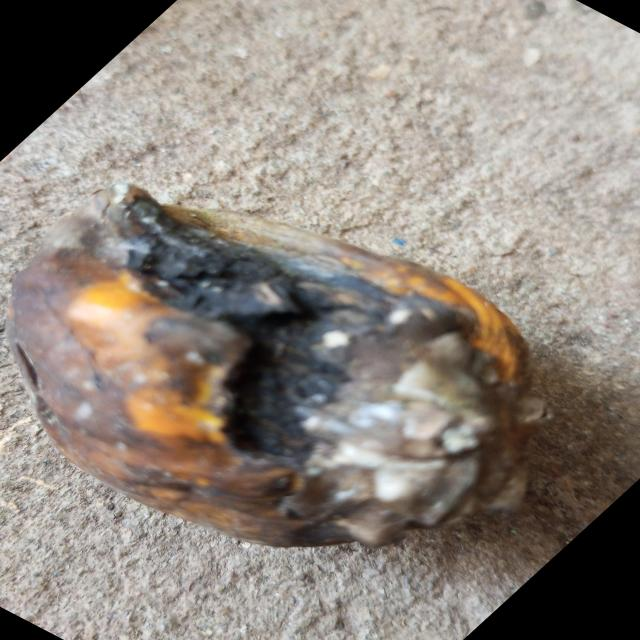damaged: (8, 183, 546, 553)
